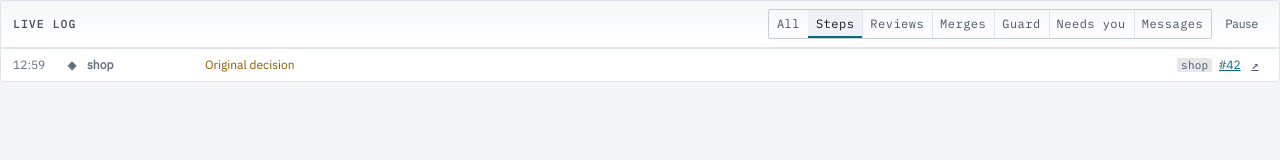
Test: reconciles All escalations by ticket identity
The image size is (1280, 160).
Expected: the text "Original decision" is shown, [205,57,294,72]
Click the button "All". click: point(788, 24)
box: [769,10,808,38]
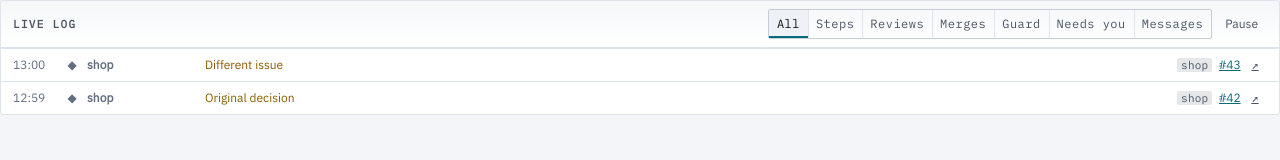
Now the number of elements with class "arow" is 2, box [1,48,1279,81]; [1,81,1279,114]
Now the text "Different issue" is shown, box [205,57,283,72]
